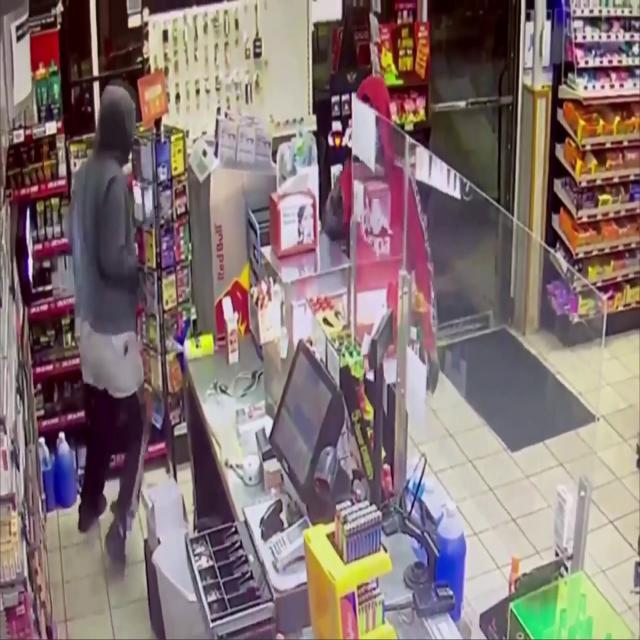Gun: (328, 182, 344, 224)
